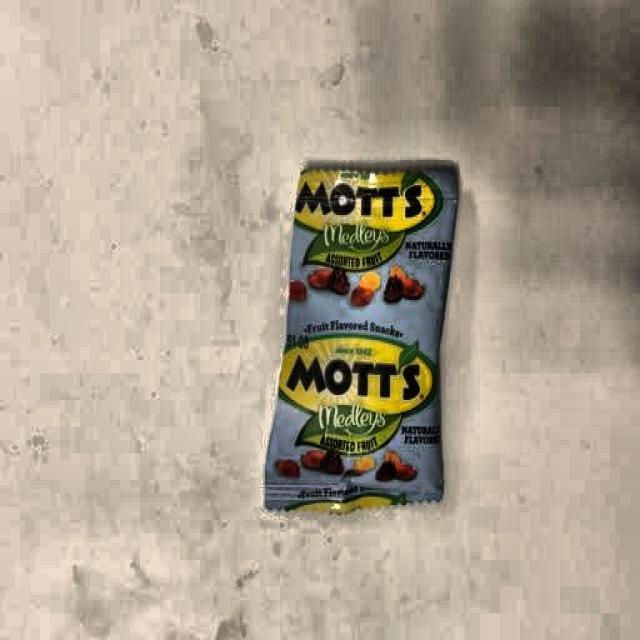trash: (281, 176, 454, 503)
